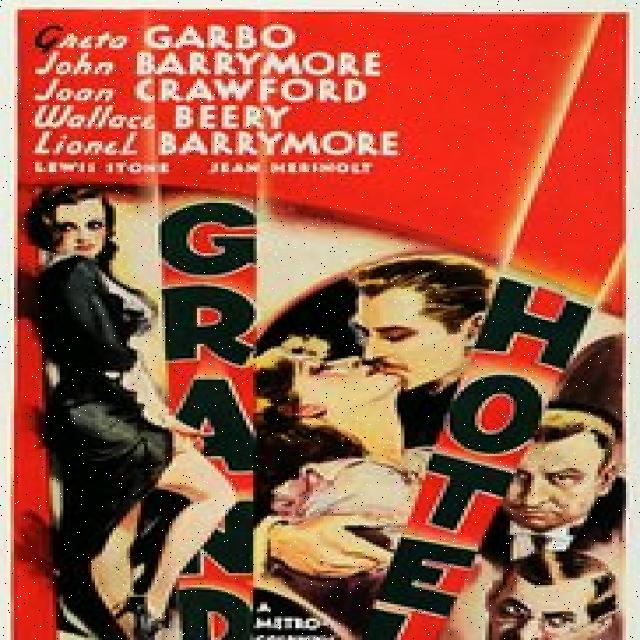movie-judul: (358, 271, 595, 640), (160, 182, 258, 639)
picture: (250, 200, 499, 640), (24, 185, 241, 640), (440, 308, 629, 640)
